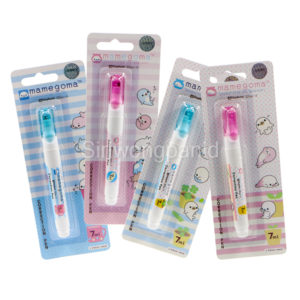Correction_fluid: (146, 101, 194, 232), (30, 103, 74, 237), (216, 104, 257, 238), (101, 70, 127, 208)
